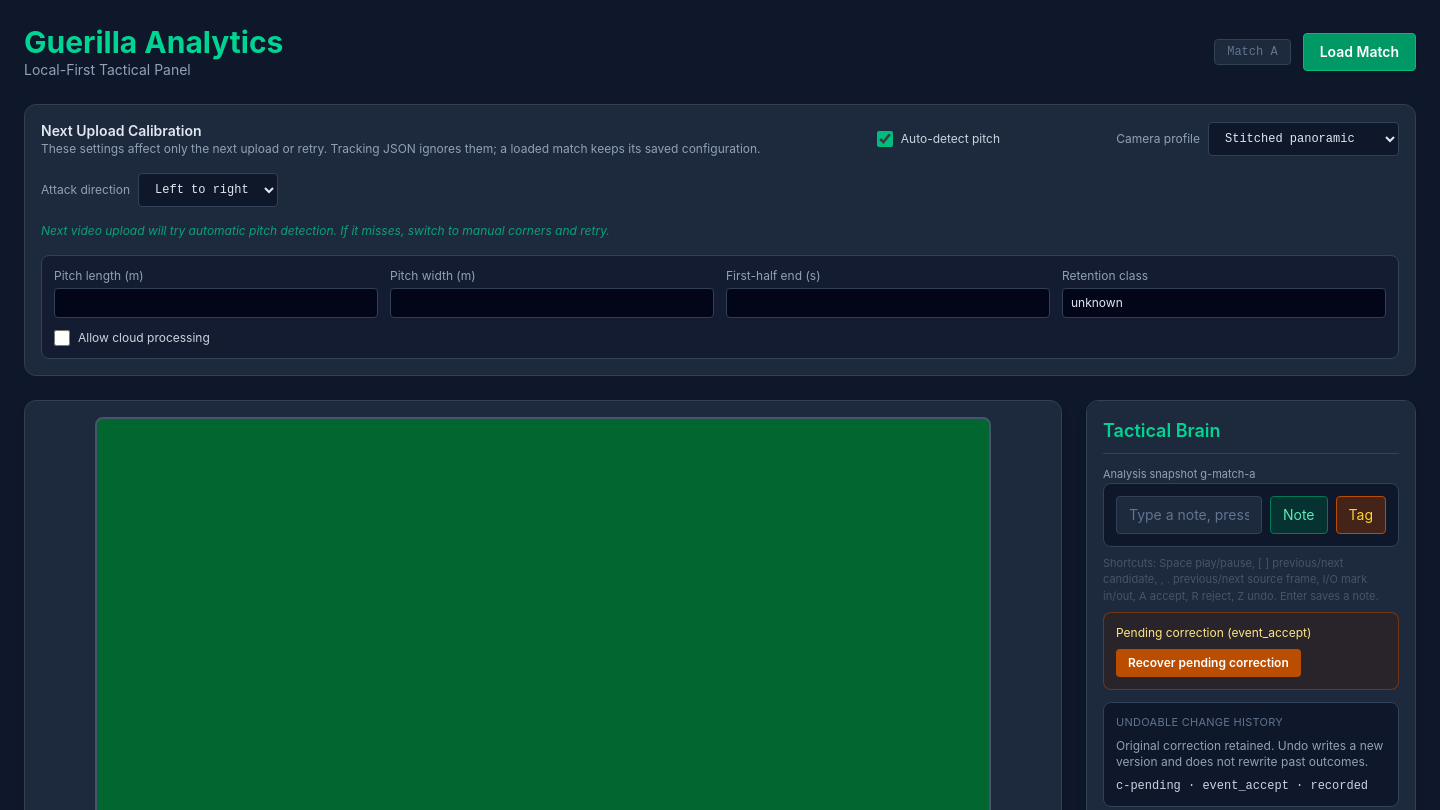
Test: App match workspace loading › recovers a pending event correction on the loaded match without rewriting the playhead
The width and height of the screenshot is (1440, 810).
Expected: the text "Match A" is shown, [1214,39,1291,65]
Click the button "Recover pending correction".
click(1208, 663)  # box [1116,649,1301,677]
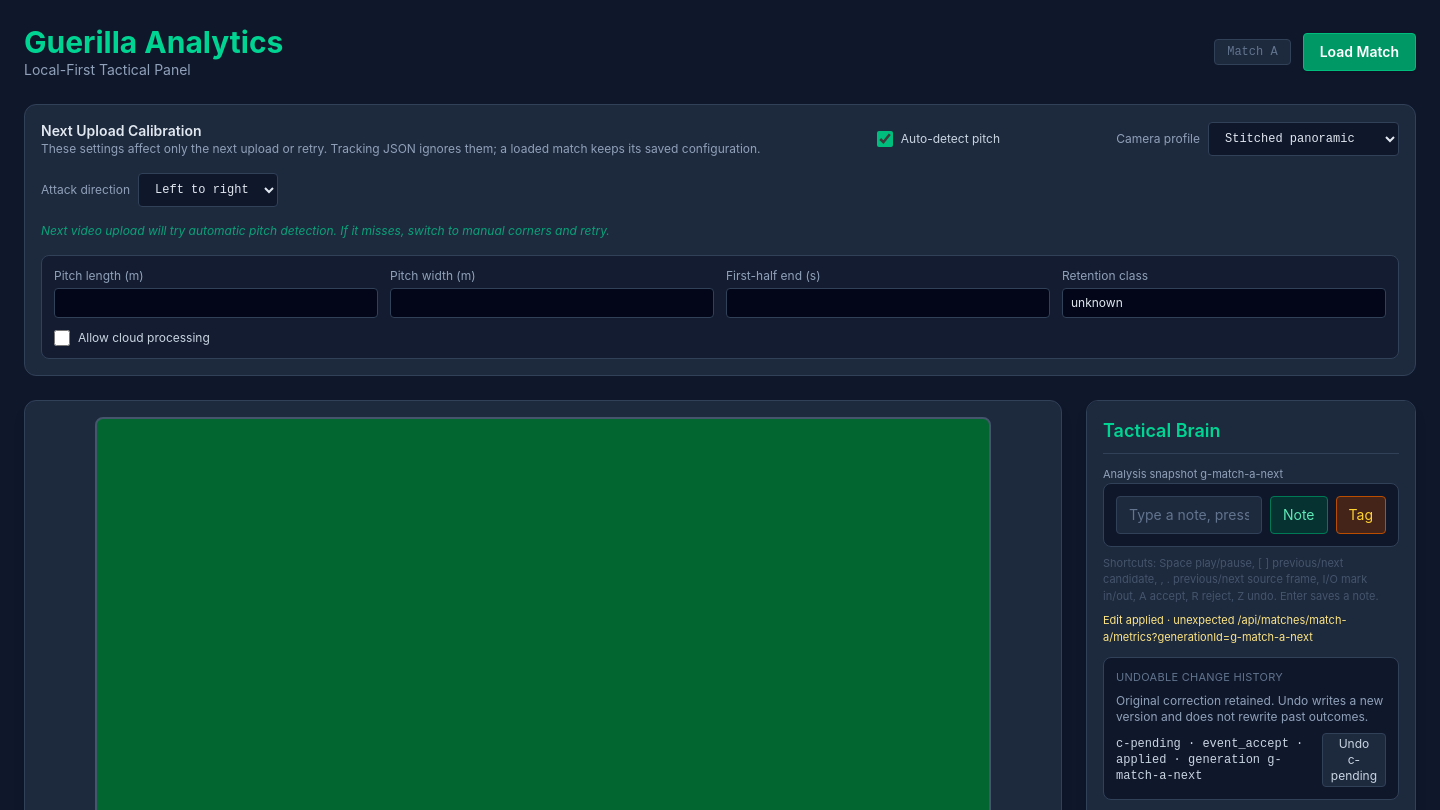
Result: the text "Edit applied" is shown at [1103,613,1164,627]
